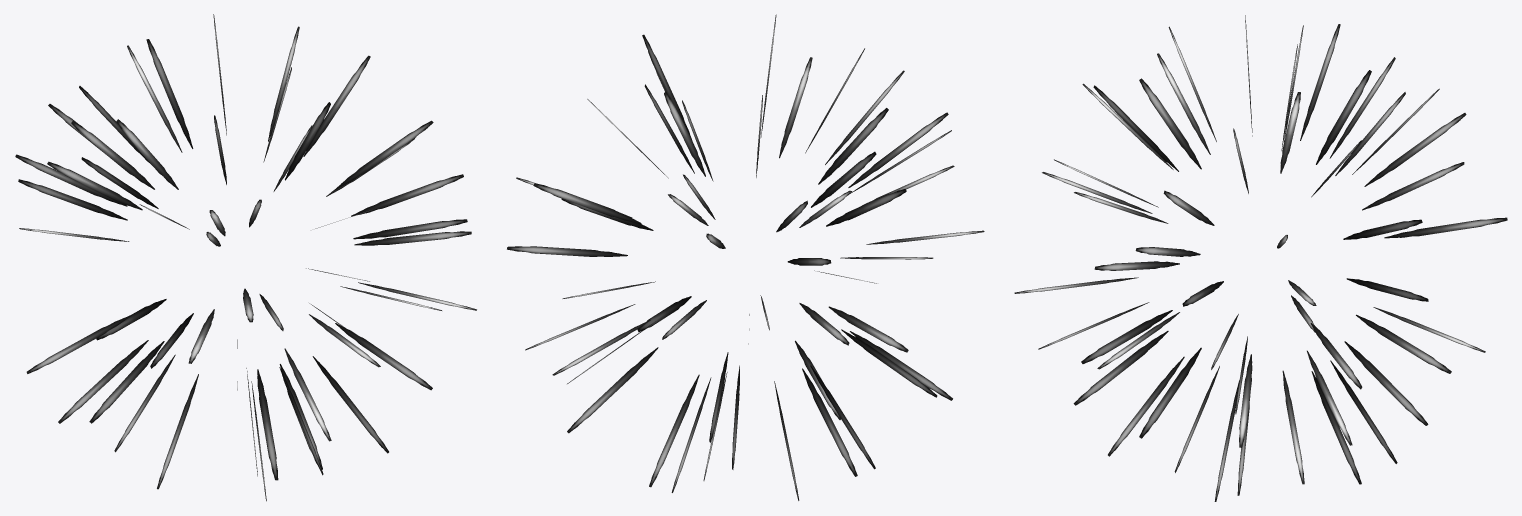
The picture shows the model from 3 angles, left to right: view 1: azimuth 30°, elevation 25°; view 2: azimuth 150°, elevation 25°; view 3: azimuth 270°, elevation 25°; orthographic projection.
Parts seen in each view (by area): view 1: T1L8M001_29; view 2: T1L8M001_29; view 3: T1L8M001_29.
Part boxes in pixels (x1,y1,x2,y2): T1L8M001_29: (15,14,476,501); T1L8M001_29: (507,14,984,500); T1L8M001_29: (1014,15,1507,501).
Bounding box in the file's own units: 3.85 × 3.83 × 3.94.
